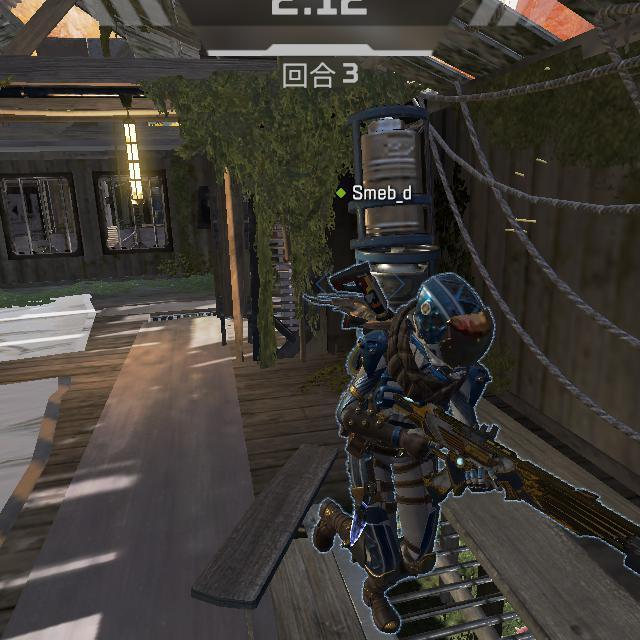avatar: (333, 269, 500, 637)
